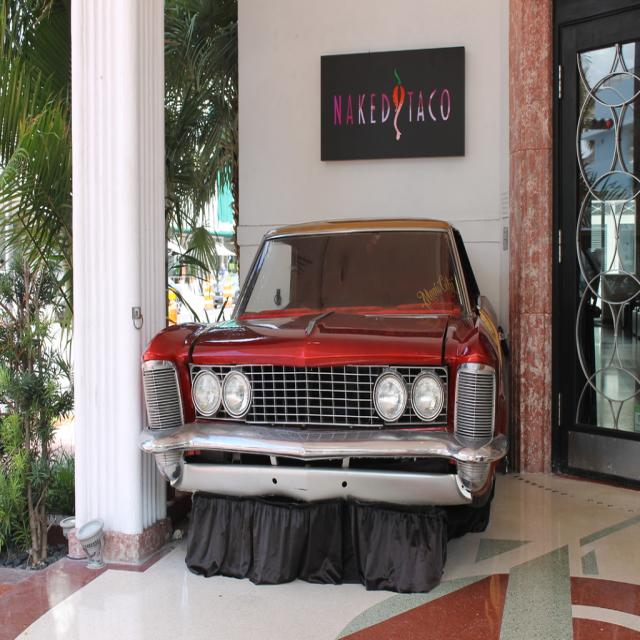car: (136, 215, 508, 592)
